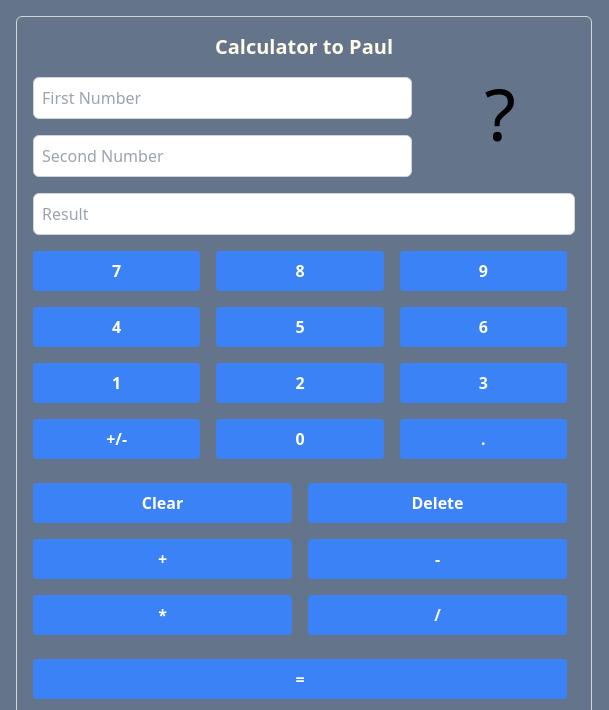
Scenario: Init Test Calculator › Click on the button
Click the button "1" at (117, 383), box [33,363,200,403]
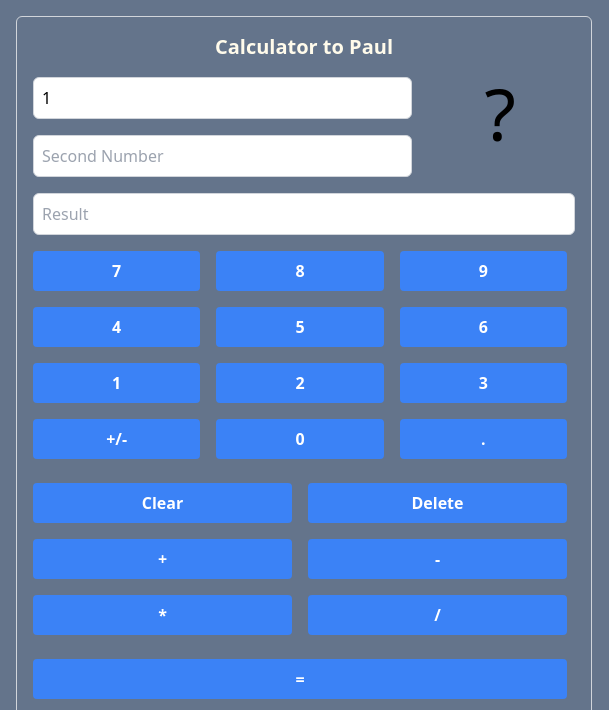
Now the field with id "firstNumber" holds "1", box [33,77,412,119]
